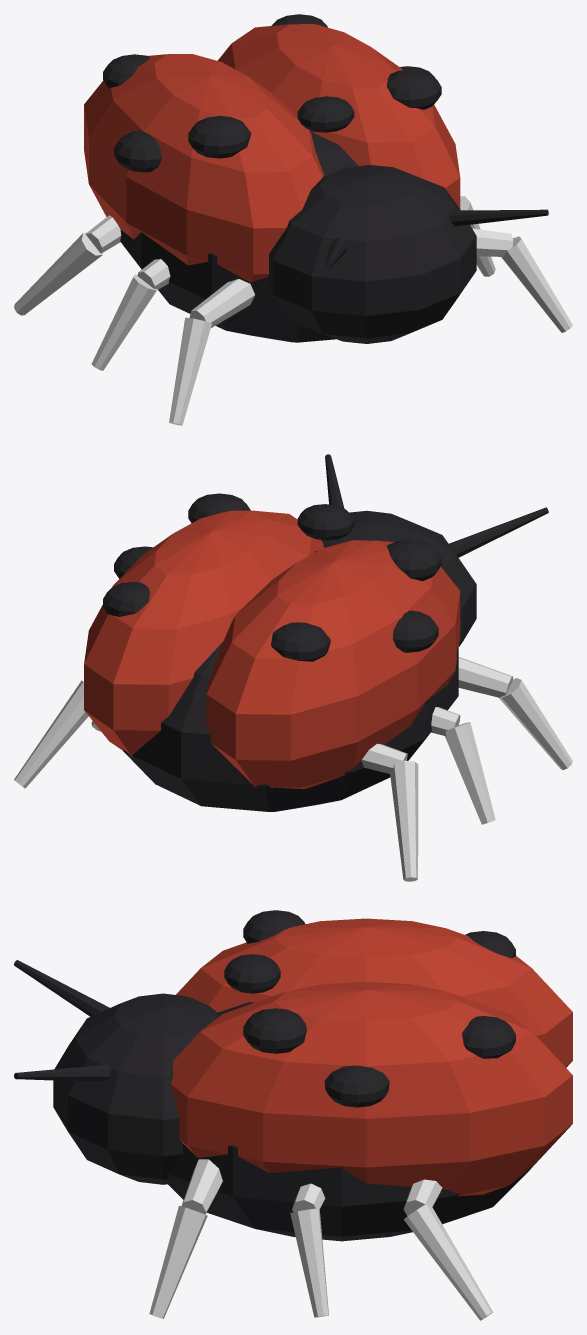
Rendered from ladybird.fbx.
3 views of the same model, one above another, from view 1: azimuth 30°, elevation 25°; view 2: azimuth 150°, elevation 25°; view 3: azimuth 270°, elevation 25° (orthographic). The views are drawn at different scales.
Parts seen in each view (by area): view 1: Body, ForeLeft, HindLeft, ForeRight, MidLeft, MidRight; view 2: Body, ForeLeft, HindLeft, MidLeft, HindRight; view 3: Body, ForeRight, HindRight, MidRight.
Boxes of the visible parts, x1,y1,x2,y2 form: Body: (84, 14, 548, 343); ForeLeft: (169, 279, 254, 425); HindLeft: (14, 215, 121, 315); ForeRight: (472, 228, 572, 332); MidLeft: (91, 259, 170, 370); MidRight: (460, 196, 495, 276); Body: (84, 454, 548, 811); ForeLeft: (458, 657, 572, 769); HindLeft: (361, 743, 418, 881); MidLeft: (431, 707, 495, 824); HindRight: (14, 680, 88, 788); Body: (14, 910, 572, 1241); ForeRight: (149, 1159, 222, 1318); HindRight: (403, 1179, 492, 1320); MidRight: (290, 1183, 328, 1317).
Bounding box in the file's own units: 44.06 × 25.87 × 50.1.
